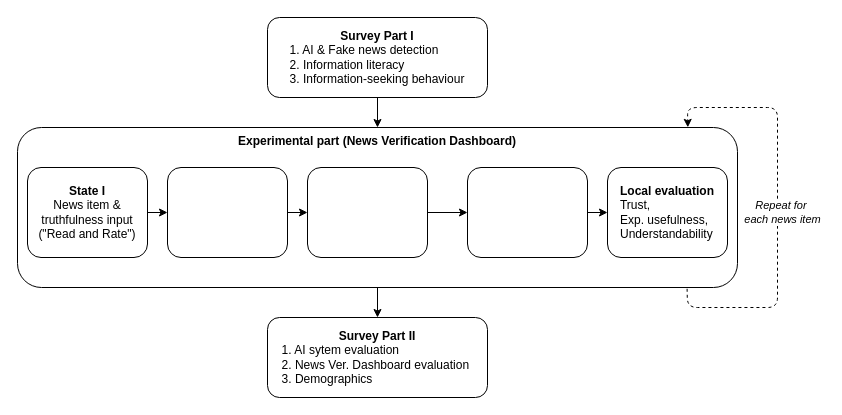
Image size: 842x415. Some labels were removed from this diagram. The centre of each missing label's shape, as x and y in pixels:
Control question: (x=527, y=212)
State II News item & AI system output ("Inform"): (x=227, y=212)
State III News item & AI system output* & truthfulness input ("Repeat Rating"): (x=367, y=212)
